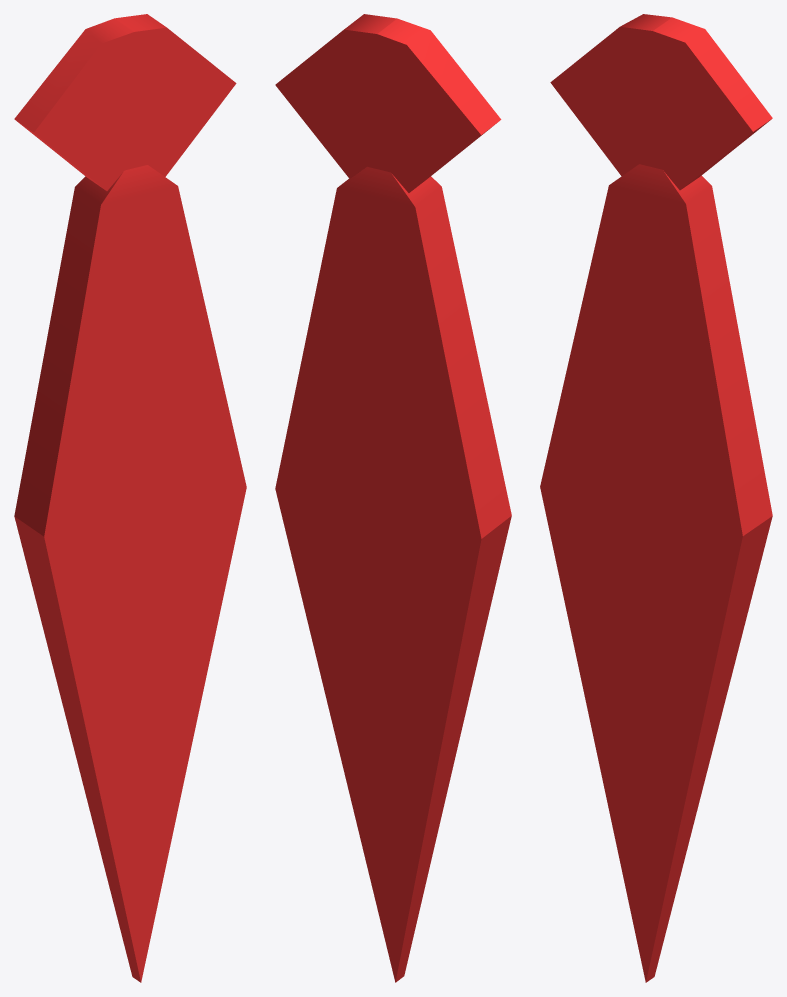
Rendered from Suit_Tie.fbx.
3 renders of one model, left to right at view 1: azimuth 30°, elevation 25°; view 2: azimuth 150°, elevation 25°; view 3: azimuth 330°, elevation 25°, orthographic.
Parts seen in each view (by area): view 1: Tie1; view 2: Tie1; view 3: Tie1.
Boxes of the visible parts, bbox=[...] form: Tie1: bbox=[14, 14, 246, 982]; Tie1: bbox=[275, 14, 511, 982]; Tie1: bbox=[540, 14, 772, 982].
Bounding box in the file's own units: 4.96 × 22.13 × 1.36.
